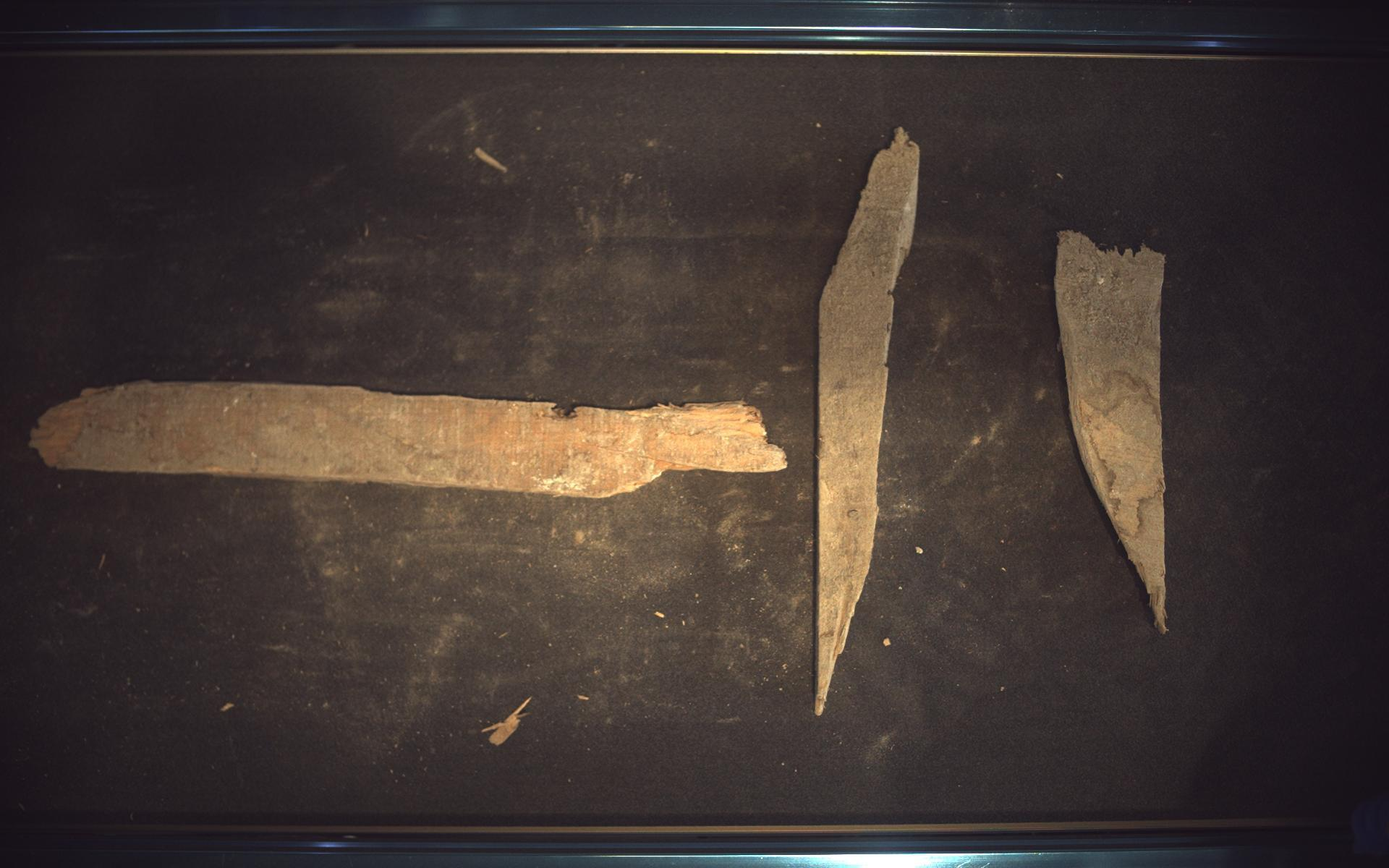wood: (29, 381, 788, 498), (816, 127, 921, 715), (1057, 230, 1170, 634)
